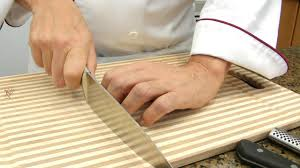knife: (64, 54, 181, 168)
